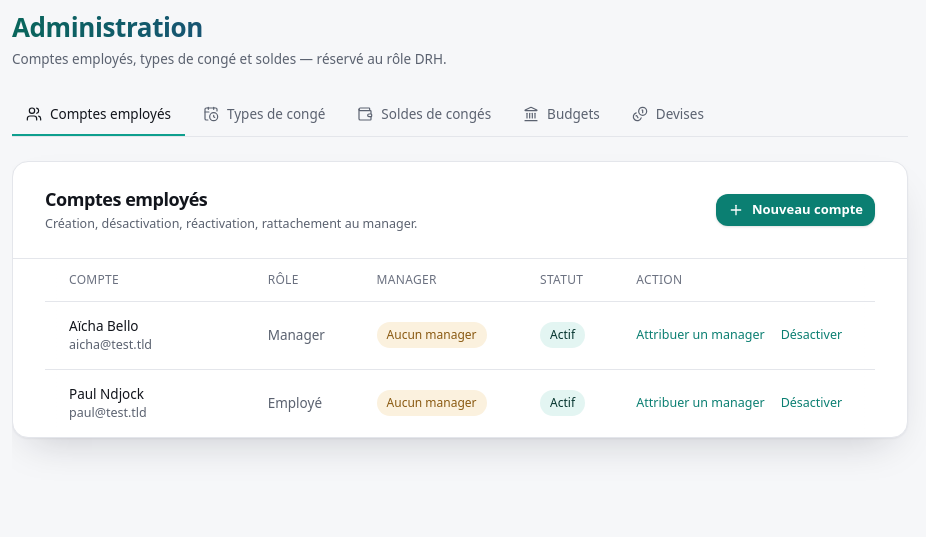
Test: AdminPage — onglet Comptes : manager › attribue un manager : n'offre que des comptes actifs non-employes et envoie manager_id
Expected: the text "Paul Ndjock" is shown, 69,384 -> 144,402
Click the button with aria-label "attribuer le manager de paul".
click(700, 403)  # box 636,394 -> 765,412
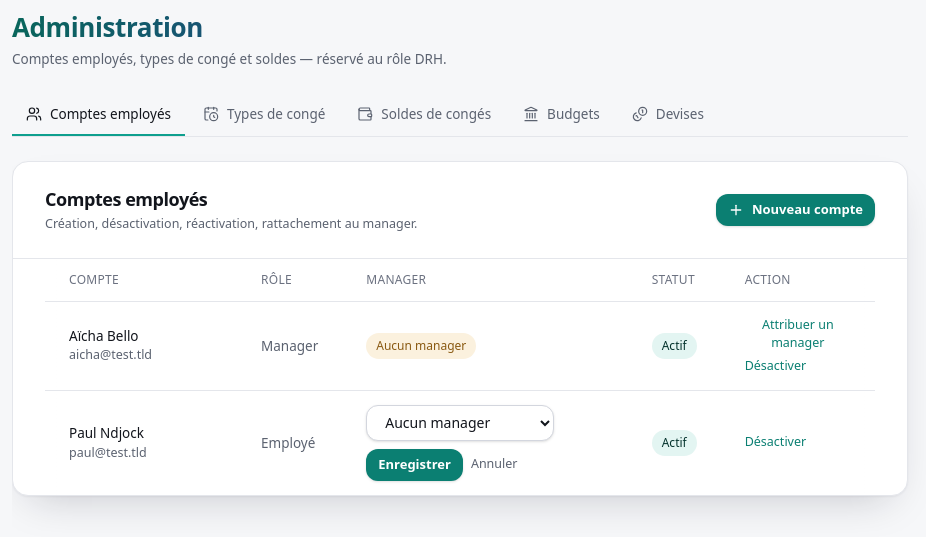
Select "Aïcha Bello — Ventes" in the dropdown named "Manager de Paul Ndjock" at {"x": 460, "y": 423}, box 366,405 -> 554,441
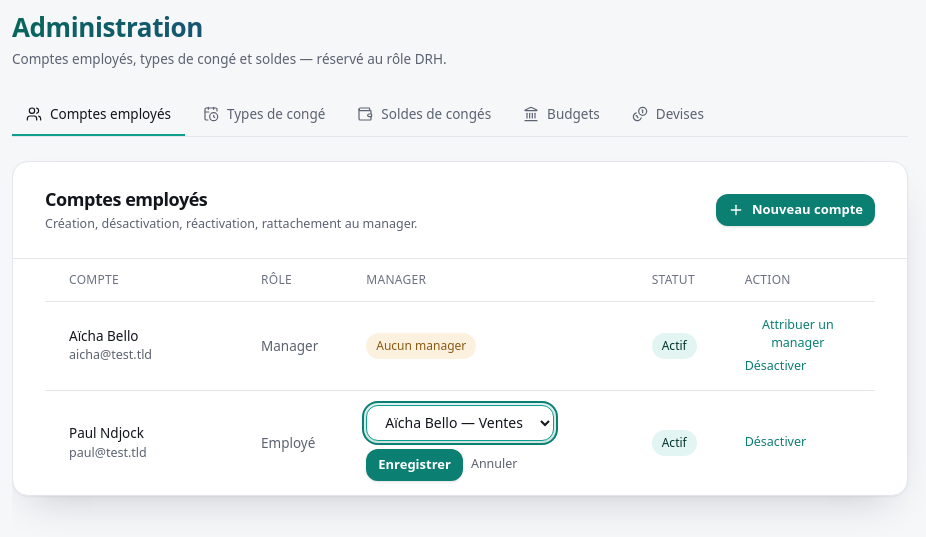
Click the button "Enregistrer".
click(415, 465)  # box 366,449 -> 463,481
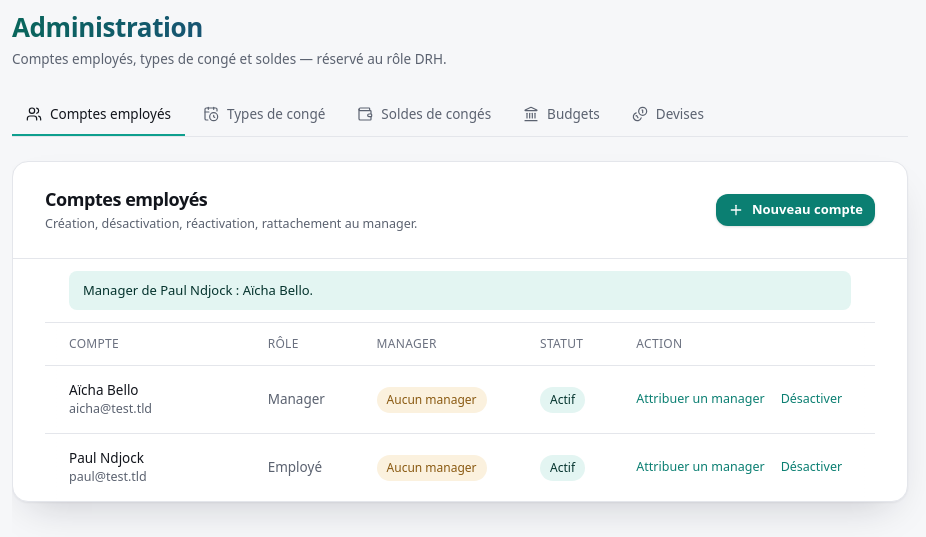
Result: the text "Manager de Paul Ndjock : Aïcha Bello." is shown at 69,270 -> 851,310
